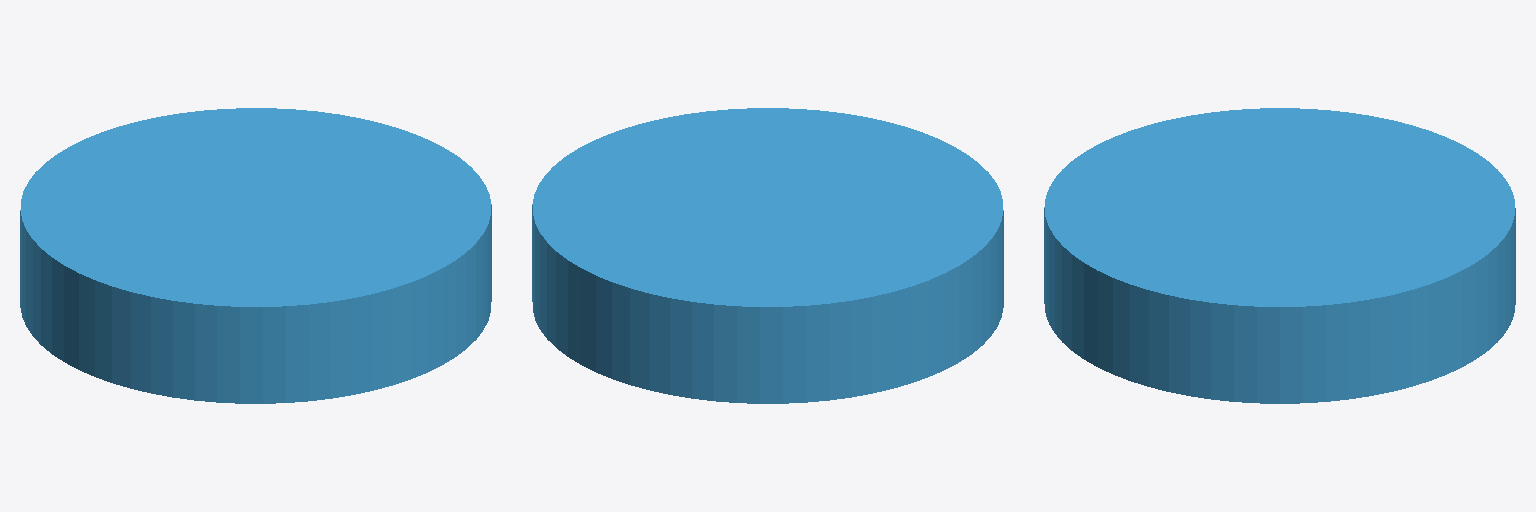
robot.urdf — iiwa14:
<?xml version="1.0" ?>
<!-- =================================================================================== -->
<!-- |    This document was autogenerated by xacro from iiwa14.xacro                   | -->
<!-- |    EDITING THIS FILE BY HAND IS NOT RECOMMENDED                                 | -->
<!-- =================================================================================== -->
<!-- top level -->
<robot name="iiwa14">
  <!-- KDL requires a link without inertia / Gazebo requires a connection to world link or robot
    will tipple https://github.com/lbr-stack/lbr_fri_ros2_stack/issues/230 -->
  <link name="world"/>
  <!--joint between <robot_name>_world_link and robot_name_link_0-->
  <joint name="lbr_world_joint" type="fixed">
    <origin rpy="0 0 3.14" xyz="0 0 0"/>
    <parent link="world"/>
    <child link="lbr_link_0"/>
  </joint>
  <link name="lbr_link_0">
    <inertial>
      <origin rpy="0 0 0" xyz="-0.012822 0.0 0.071507"/>
      <mass value="7.050378"/>
      <inertia ixx="0.031226" ixy="0.0" ixz="0.000871" iyy="0.039697" iyz="0.0" izz="0.043102"/>
    </inertial>
    <visual>
      <origin rpy="0 0 0" xyz="0 0 0"/>
      <geometry>
        <mesh filename="lbr_description/meshes/iiwa14/visual/link_0.dae"/>
      </geometry>
    </visual>
    <collision>
      <origin rpy="0 0 0" xyz="0 0 0"/>
      <geometry>
        <mesh filename="lbr_description/meshes/iiwa14/collision/link_0.stl"/>
      </geometry>
    </collision>
  </link>
  <joint name="lbr_A1" type="revolute">
    <origin rpy="0 0 0" xyz="0.0 0.0 0.1475"/>
    <parent link="lbr_link_0"/>
    <child link="lbr_link_1"/>
    <axis xyz="0.0 0.0 1.0"/>
    <limit effort="200" lower="-2.9670597283903604" upper="2.9670597283903604" velocity="1.4835298641951802"/>
    <dynamics damping="10.0" friction="0.1"/>
  </joint>
  <link name="lbr_link_1">
    <inertial>
      <origin rpy="0 0 0" xyz="0.0 -0.033795 0.132404"/>
      <mass value="5.289529"/>
      <inertia ixx="0.042462" ixy="0.0" ixz="0.0" iyy="0.042838" iyz="0.006341" izz="0.01587"/>
    </inertial>
    <visual>
      <origin rpy="0 0 0" xyz="0.0 0.0 -0.1475"/>
      <geometry>
        <mesh filename="lbr_description/meshes/iiwa14/visual/link_1.dae"/>
      </geometry>
    </visual>
    <collision>
      <origin rpy="0 0 0" xyz="0.0 0.0 -0.1475"/>
      <geometry>
        <mesh filename="lbr_description/meshes/iiwa14/collision/link_1.stl"/>
      </geometry>
    </collision>
  </link>
  <joint name="lbr_A2" type="revolute">
    <origin rpy="0 0 0" xyz="0.0 -0.01 0.2125"/>
    <parent link="lbr_link_1"/>
    <child link="lbr_link_2"/>
    <axis xyz="0.0 1.0 0.0"/>
    <limit effort="200" lower="-2.0943951023931953" upper="2.0943951023931953" velocity="1.4835298641951802"/>
    <dynamics damping="10.0" friction="0.1"/>
  </joint>
  <link name="lbr_link_2">
    <inertial>
      <origin rpy="0 0 0" xyz="0.000136 0.047548 0.076322"/>
      <mass value="5.688888"/>
      <inertia ixx="0.055182" ixy="-3.3e-05" ixz="5.6e-05" iyy="0.053983" iyz="0.010034" izz="0.016523"/>
    </inertial>
    <visual>
      <origin rpy="0 0 0" xyz="0.0 0.01 -0.36"/>
      <geometry>
        <mesh filename="lbr_description/meshes/iiwa14/visual/link_2.dae"/>
      </geometry>
    </visual>
    <collision>
      <origin rpy="0 0 0" xyz="0.0 0.01 -0.36"/>
      <geometry>
        <mesh filename="lbr_description/meshes/iiwa14/collision/link_2.stl"/>
      </geometry>
    </collision>
  </link>
  <joint name="lbr_A3" type="revolute">
    <origin rpy="0 0 0" xyz="0.0 0.01 0.228"/>
    <parent link="lbr_link_2"/>
    <child link="lbr_link_3"/>
    <axis xyz="0.0 0.0 1.0"/>
    <limit effort="200" lower="-2.9670597283903604" upper="2.9670597283903604" velocity="1.7453292519943295"/>
    <dynamics damping="10.0" friction="0.1"/>
  </joint>
  <link name="lbr_link_3">
    <inertial>
      <origin rpy="0 0 0" xyz="0.0 0.034913 0.123108"/>
      <mass value="3.461245"/>
      <inertia ixx="0.02172" ixy="0.0" ixz="0.0" iyy="0.02073" iyz="-0.003845" izz="0.007701"/>
    </inertial>
    <visual>
      <origin rpy="0 0 0" xyz="0.0 0.0 -0.588"/>
      <geometry>
        <mesh filename="lbr_description/meshes/iiwa14/visual/link_3.dae"/>
      </geometry>
    </visual>
    <collision>
      <origin rpy="0 0 0" xyz="0.0 0.0 -0.588"/>
      <geometry>
        <mesh filename="lbr_description/meshes/iiwa14/collision/link_3.stl"/>
      </geometry>
    </collision>
  </link>
  <joint name="lbr_A4" type="revolute">
    <origin rpy="0 0 0" xyz="0.0 0.0105 0.192"/>
    <parent link="lbr_link_3"/>
    <child link="lbr_link_4"/>
    <axis xyz="0.0 -1.0 0.0"/>
    <limit effort="200" lower="-2.0943951023931953" upper="2.0943951023931953" velocity="1.3089969389957472"/>
    <dynamics damping="10.0" friction="0.1"/>
  </joint>
  <link name="lbr_link_4">
    <inertial>
      <origin rpy="0 0 0" xyz="0.0 -0.039793 0.086944"/>
      <mass value="4.122995"/>
      <inertia ixx="0.03241" ixy="0.0" ixz="0.0" iyy="0.030758" iyz="-0.006022" izz="0.009883"/>
    </inertial>
    <visual>
      <origin rpy="0 0 0" xyz="0.0 -0.0105 -0.78"/>
      <geometry>
        <mesh filename="lbr_description/meshes/iiwa14/visual/link_4.dae"/>
      </geometry>
    </visual>
    <collision>
      <origin rpy="0 0 0" xyz="0.0 -0.0105 -0.78"/>
      <geometry>
        <mesh filename="lbr_description/meshes/iiwa14/collision/link_4.stl"/>
      </geometry>
    </collision>
  </link>
  <joint name="lbr_A5" type="revolute">
    <origin rpy="0 0 0" xyz="0.0 -0.0105 0.2075"/>
    <parent link="lbr_link_4"/>
    <child link="lbr_link_5"/>
    <axis xyz="0.0 0.0 1.0"/>
    <limit effort="200" lower="-2.9670597283903604" upper="2.9670597283903604" velocity="2.2689280275926285"/>
    <dynamics damping="10.0" friction="0.1"/>
  </joint>
  <link name="lbr_link_5">
    <inertial>
      <origin rpy="0 0 0" xyz="0.0 -0.029824 0.076267"/>
      <mass value="1.563756"/>
      <inertia ixx="0.008677" ixy="0.0" ixz="0.0" iyy="0.007297" iyz="0.002869" izz="0.003935"/>
    </inertial>
    <visual>
      <origin rpy="0 0 0" xyz="0.0 0.0 -0.9875"/>
      <geometry>
        <mesh filename="lbr_description/meshes/iiwa14/visual/link_5.dae"/>
      </geometry>
    </visual>
    <collision>
      <origin rpy="0 0 0" xyz="0.0 0.0 -0.9875"/>
      <geometry>
        <mesh filename="lbr_description/meshes/iiwa14/collision/link_5.stl"/>
      </geometry>
    </collision>
  </link>
  <joint name="lbr_A6" type="revolute">
    <origin rpy="0 0 0" xyz="0.0 -0.0707 0.1925"/>
    <parent link="lbr_link_5"/>
    <child link="lbr_link_6"/>
    <axis xyz="0.0 1.0 0.0"/>
    <limit effort="200" lower="-2.0943951023931953" upper="2.0943951023931953" velocity="2.356194490192345"/>
    <dynamics damping="10.0" friction="0.1"/>
  </joint>
  <link name="lbr_link_6">
    <inertial>
      <origin rpy="0 0 0" xyz="0.0 0.07102 0.00495"/>
      <mass value="2.457878"/>
      <inertia ixx="0.007227" ixy="0.0" ixz="0.0" iyy="0.006958" iyz="0.000318" izz="0.004734"/>
    </inertial>
    <visual>
      <origin rpy="0 0 0" xyz="0.0 0.0707 -1.18"/>
      <geometry>
        <mesh filename="lbr_description/meshes/iiwa14/visual/link_6.dae"/>
      </geometry>
    </visual>
    <collision>
      <origin rpy="0 0 0" xyz="0.0 0.0707 -1.18"/>
      <geometry>
        <mesh filename="lbr_description/meshes/iiwa14/collision/link_6.stl"/>
      </geometry>
    </collision>
  </link>
  <joint name="lbr_A7" type="revolute">
    <origin rpy="0 0 0" xyz="0.0 0.0707 0.091"/>
    <parent link="lbr_link_6"/>
    <child link="lbr_link_7"/>
    <axis xyz="0.0 0.0 1.0"/>
    <limit effort="200" lower="-3.0543261909900763" upper="3.0543261909900763" velocity="2.356194490192345"/>
    <dynamics damping="10.0" friction="0.1"/>
  </joint>
  <link name="lbr_link_7">
    <inertial>
      <origin rpy="0 0 0" xyz="3.0000e-06 -2.0000e-06 1.3782e-02"/>
      <mass value="0.265331"/>
      <inertia ixx="0.000175" ixy="0.0" ixz="0.0" iyy="0.000175" iyz="0.0" izz="0.000306"/>
    </inertial>
    <visual>
      <origin rpy="0 0 0" xyz="0.0 0.0 -1.271"/>
      <geometry>
        <mesh filename="lbr_description/meshes/iiwa14/visual/link_7.dae"/>
      </geometry>
    </visual>
    <collision>
      <origin rpy="0 0 0" xyz="0.0 0.0 -1.271"/>
      <geometry>
        <mesh filename="lbr_description/meshes/iiwa14/collision/link_7.stl"/>
      </geometry>
    </collision>
  </link>
  <!-- <joint name="lbr_joint_ee" type="fixed">
    <parent link="lbr_link_7"/>
    <child link="lbr_link_ee"/>
    <origin rpy="0 0 0" xyz="0 0 0.035"/>
  </joint>
  <link name="lbr_link_ee">
  </link> -->

  <!-- Mount + screws -->
  <link name="robotiq_to_lbr_mount">
    <inertial>
      <origin rpy="0 0 0" xyz="0 0 0"/>
      <mass value="0.064"/>
      <inertia ixx="2.0368000000000002e-05" ixy="0.0" ixz="0.0" iyy="2.0368000000000002e-05" iyz="0.0" izz="3.9200000000000004e-05"/>
    </inertial>
    <visual>
      <origin rpy="0 0 0" xyz="0 0 0"/>
      <geometry>
        <mesh filename="lbr_description/meshes/iiwa14/visual/mount.obj"/>
      </geometry>
    </visual>
    <collision>
      <origin rpy="0 0 0" xyz="0 0 0"/>
      <geometry>
        <mesh filename="lbr_description/meshes/iiwa14/collision/mount.stl"/>
      </geometry>
    </collision>
  </link>
  <joint name="lbr_to_mount" type="fixed">
    <parent link="lbr_link_7"/>
    <child link="robotiq_to_lbr_mount"/>
    <origin rpy="0 0 3.141592653589793" xyz="0 0 0.0435"/>
  </joint>
</robot>

--- Facts derived from the render (not from the file) ---
The picture shows the robot from 3 angles, left to right: view 1: azimuth 30°, elevation 25°; view 2: azimuth 150°, elevation 25°; view 3: azimuth 270°, elevation 25°; orthographic projection.
Robot: iiwa14 — 10 links, 9 joints (7 revolute, 2 fixed); root link world; default pose: all joints at 0.
Visible links, largest first — view 1: robotiq_to_lbr_mount; view 2: robotiq_to_lbr_mount; view 3: robotiq_to_lbr_mount.
Boxes of the visible links, x1=… form: robotiq_to_lbr_mount: x1=20, y1=108, x2=491, y2=403; robotiq_to_lbr_mount: x1=532, y1=108, x2=1003, y2=403; robotiq_to_lbr_mount: x1=1044, y1=108, x2=1515, y2=403.
Size in the robot's own frame: 0.075 by 0.075 by 0.017 metres.
1 mesh visuals loaded from 9 distinct referenced files (1 OBJ); not drawn: 8 (reference not matched to a file when rendering).